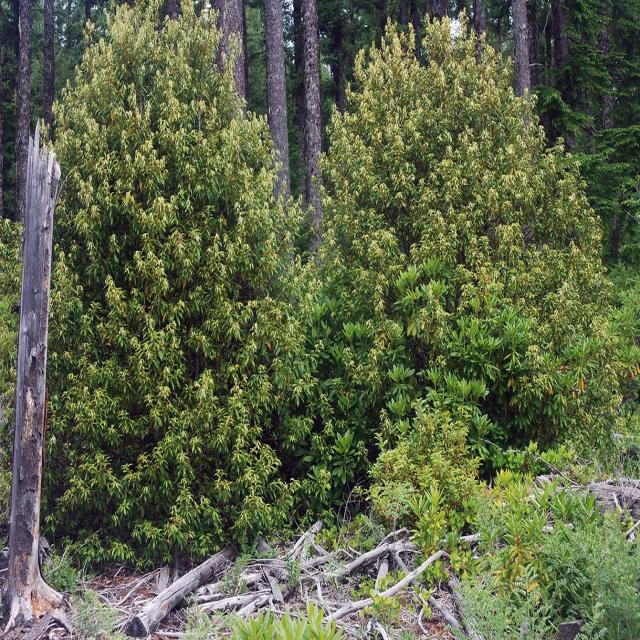Chrysolepis chrysophylla: (26, 2, 318, 546), (316, 9, 602, 477)
